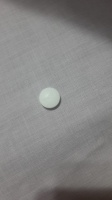Parol: (38, 86, 61, 110)
